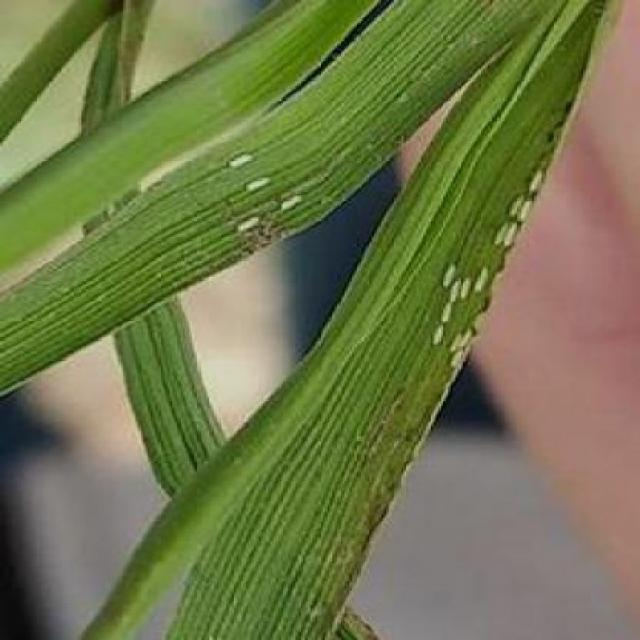whorl-maggot: (226, 210, 271, 242), (218, 149, 268, 174), (466, 262, 496, 300), (280, 183, 311, 219), (523, 164, 552, 202), (238, 170, 276, 198), (426, 323, 456, 351), (429, 263, 465, 285), (436, 300, 464, 328), (491, 217, 514, 246), (506, 197, 526, 225)
